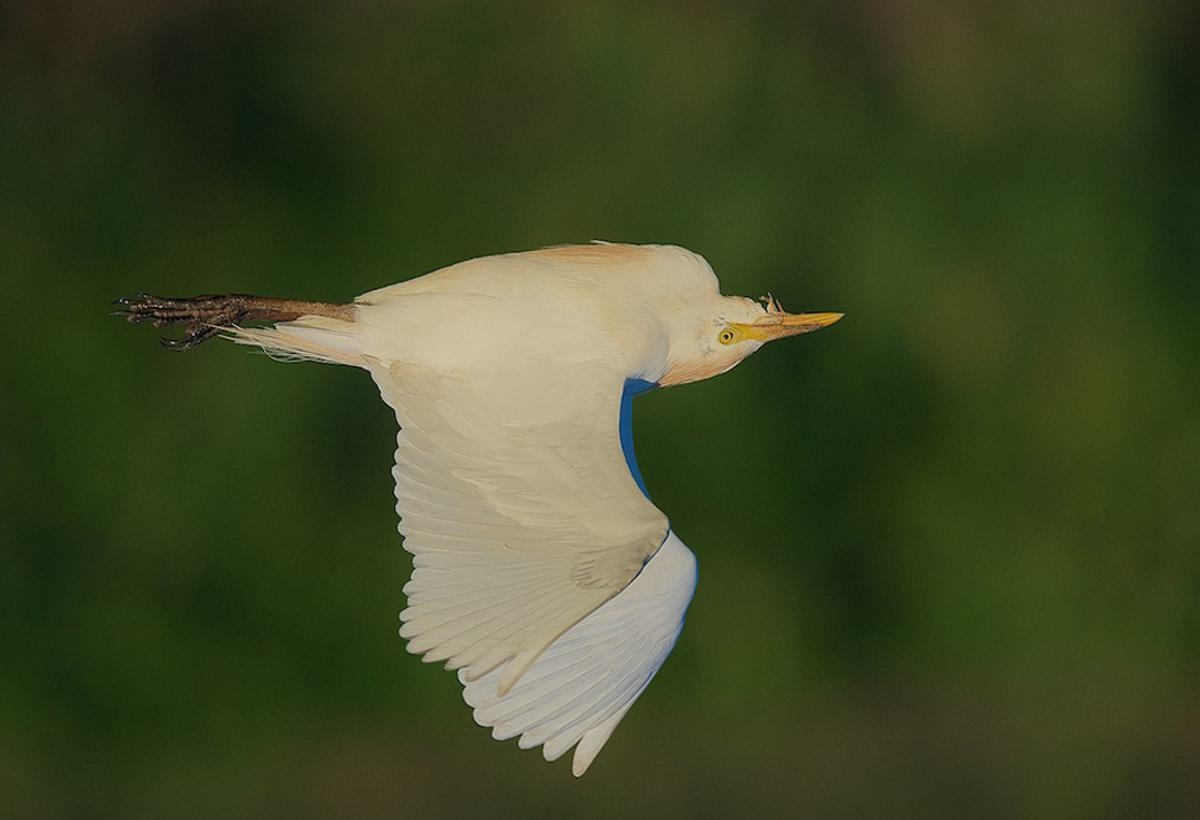egret: (102, 222, 869, 786)
